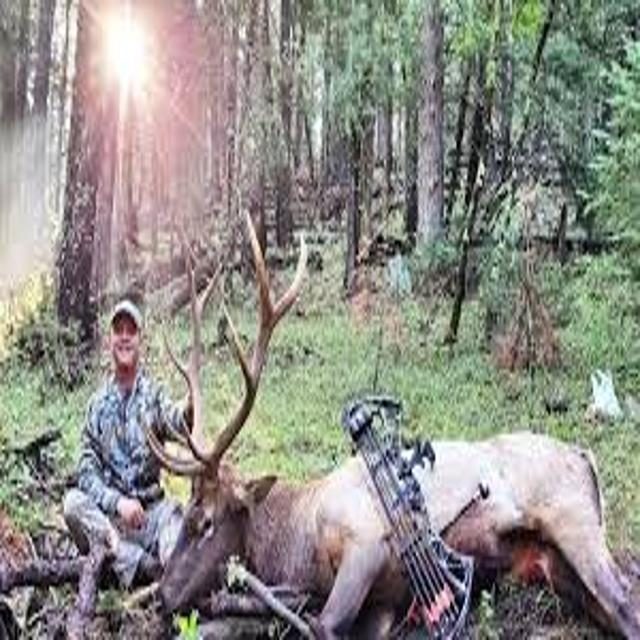deer: (112, 328, 639, 636)
gun: (305, 372, 518, 639)
poacher: (15, 278, 244, 631)
